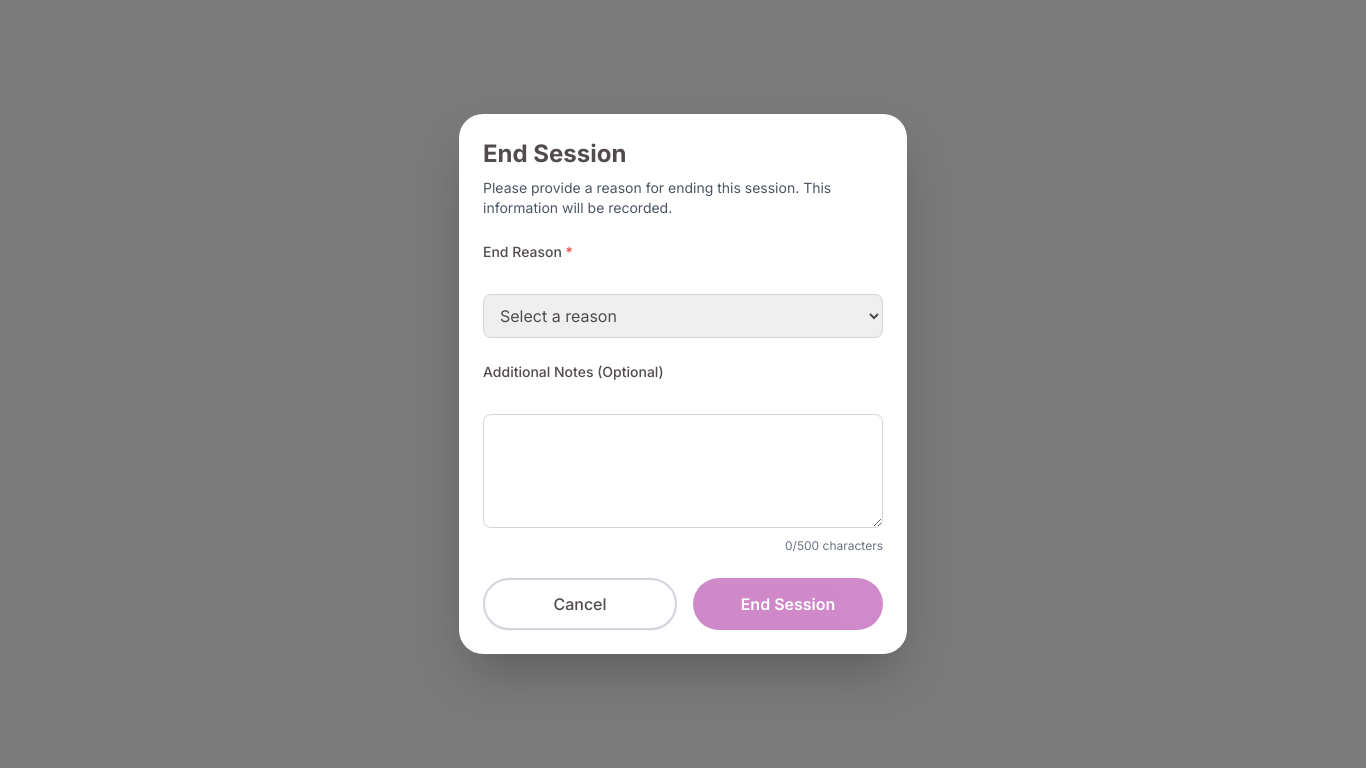
EndSessionModal Integration Tests › should show error message when submit fails
Note: Select reason and submit
Select "Normal Completion" in the dropdown labelled "End Reason *": [683, 316] box x1=483 y1=294 x2=883 y2=338
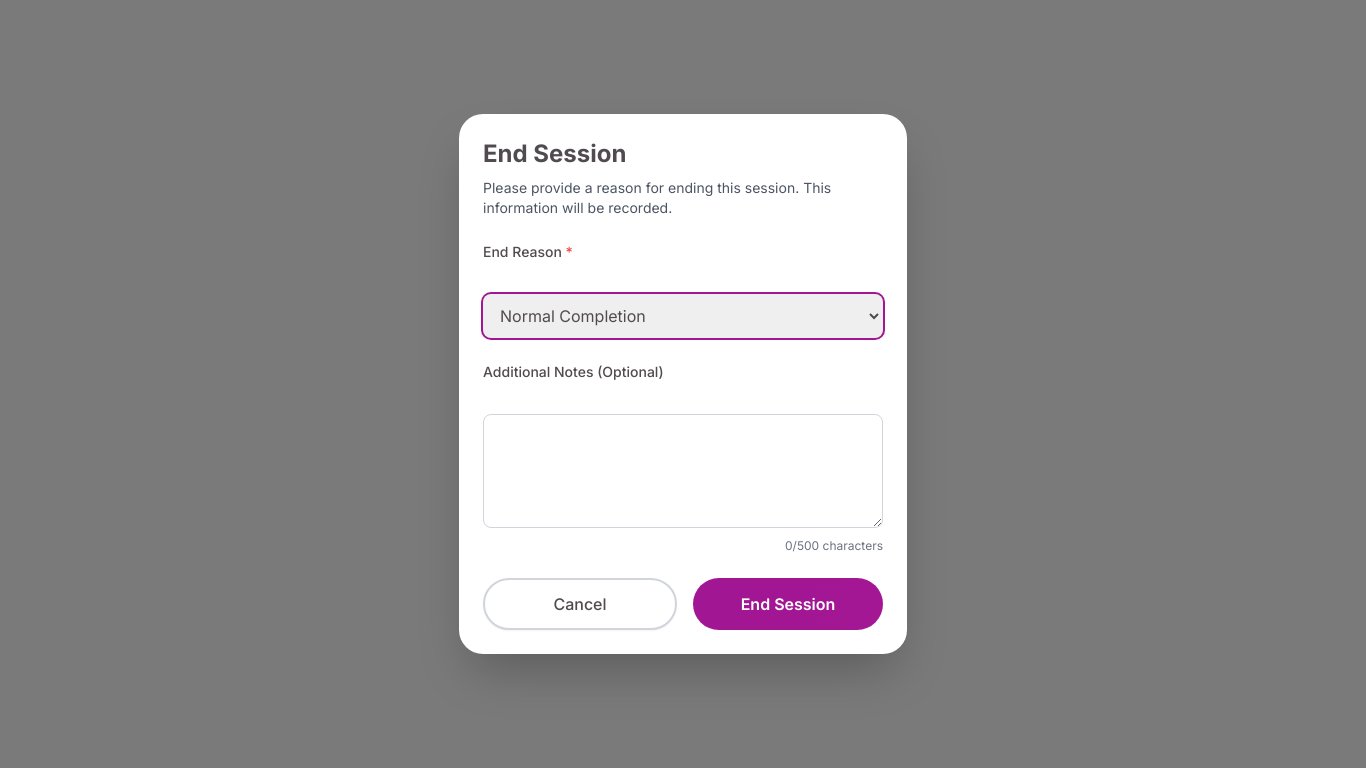
Click the button "End Session": [788, 604] box x1=693 y1=578 x2=883 y2=630
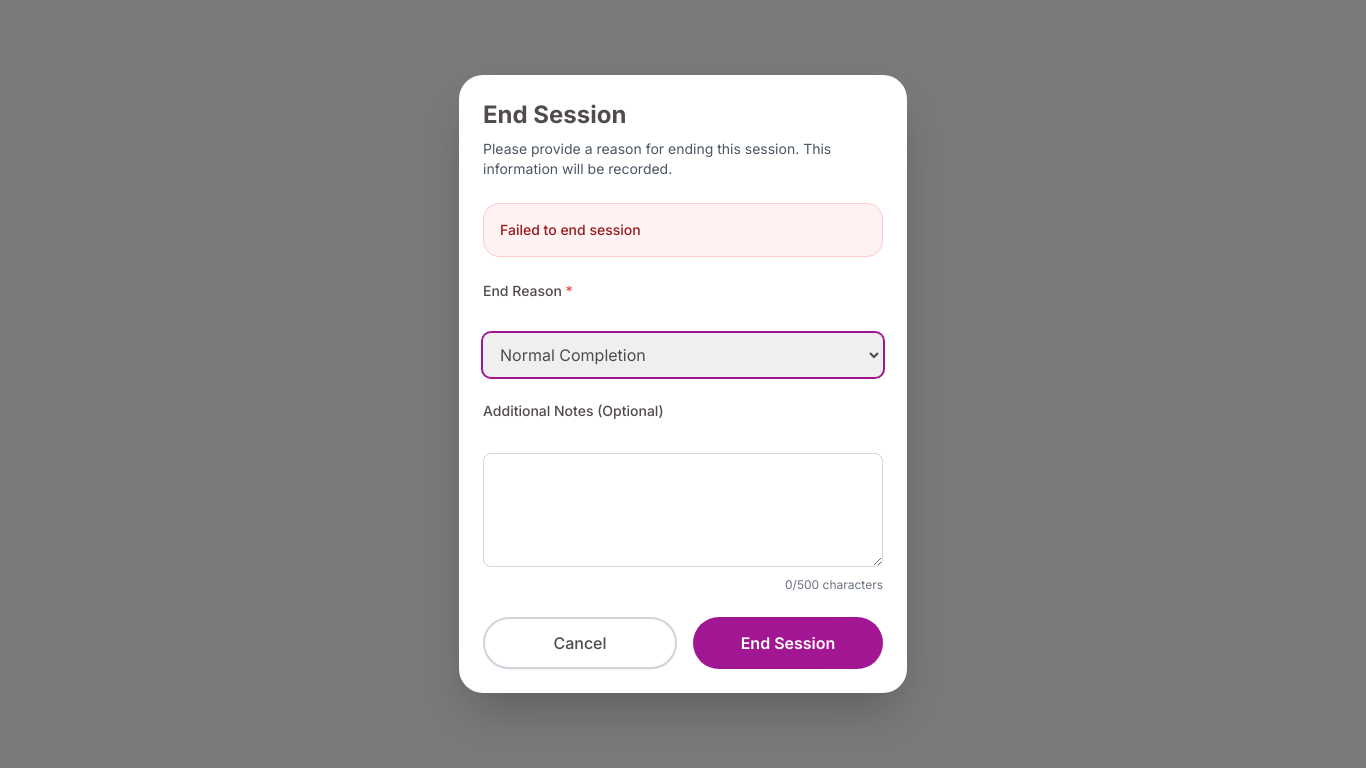
expect the text "Failed to end session" is shown: met, box x1=500 y1=221 x2=641 y2=238
